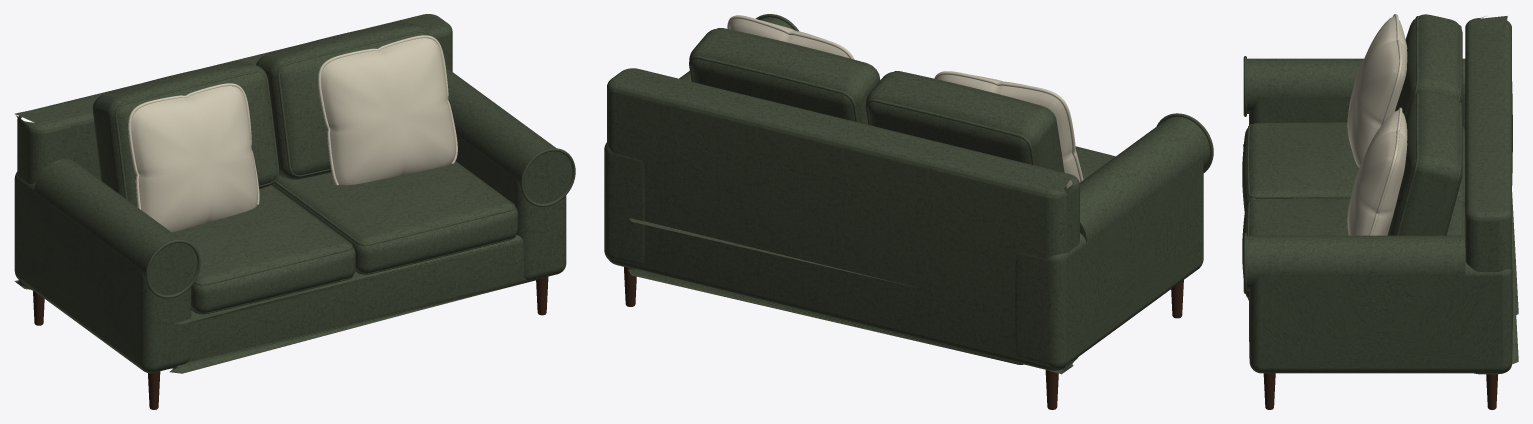
Rendered from milan-2-p2.glb.
3 views of the same model, side by side, from view 1: azimuth 30°, elevation 25°; view 2: azimuth 150°, elevation 25°; view 3: azimuth 270°, elevation 25° (orthographic). The views are drawn at different scales.
Size of the model in its own units: 1.64 by 0.8877 by 0.9451.
5 materials, 5 textured.
